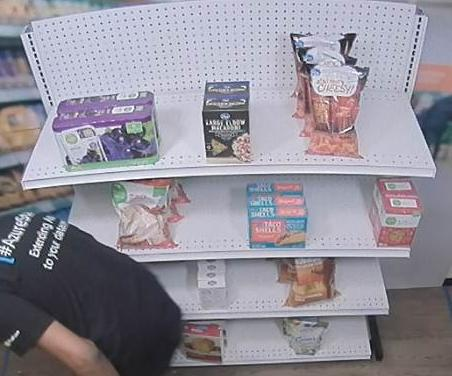stockout: (367, 70, 429, 164), (309, 178, 375, 246), (252, 81, 307, 160), (180, 181, 246, 246), (153, 84, 206, 163), (23, 94, 64, 176), (67, 187, 114, 250), (231, 260, 284, 310), (337, 259, 388, 306), (228, 320, 284, 357), (330, 319, 368, 354)
